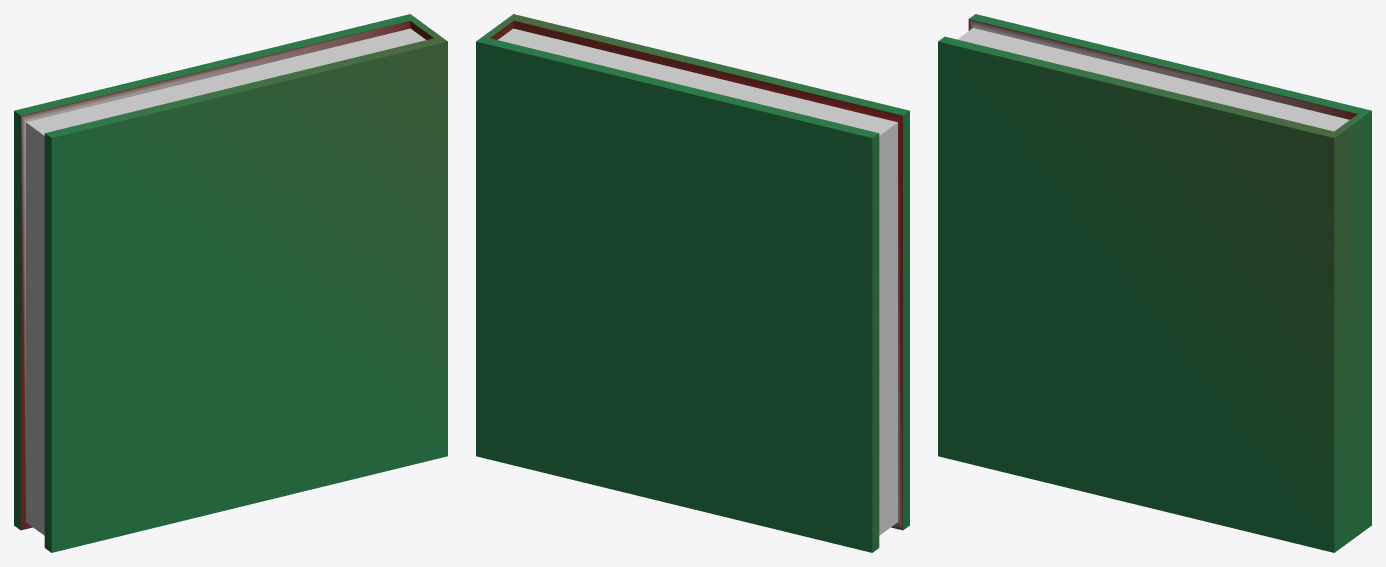
The model's file is mv_book_02.fbx.
3 views of the same model, side by side, from view 1: azimuth 30°, elevation 25°; view 2: azimuth 150°, elevation 25°; view 3: azimuth 330°, elevation 25° (orthographic).
Visible parts, largest first — view 1: move_book_02; view 2: move_book_02; view 3: move_book_02.
Boxes of the visible parts, x1,y1,x2,y2 form: move_book_02: [14, 14, 447, 552]; move_book_02: [476, 14, 909, 552]; move_book_02: [938, 14, 1371, 552].
Size of the model in its own units: 0.2898 by 0.0476 by 0.2898.
